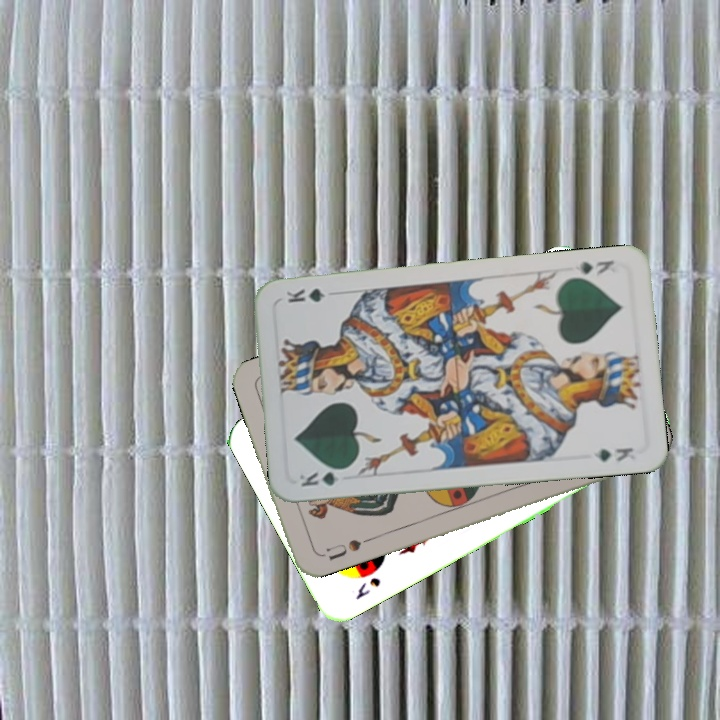GK: (295, 464, 352, 489), (571, 256, 616, 279)
SK: (351, 573, 384, 602)
SU: (322, 535, 364, 563)
